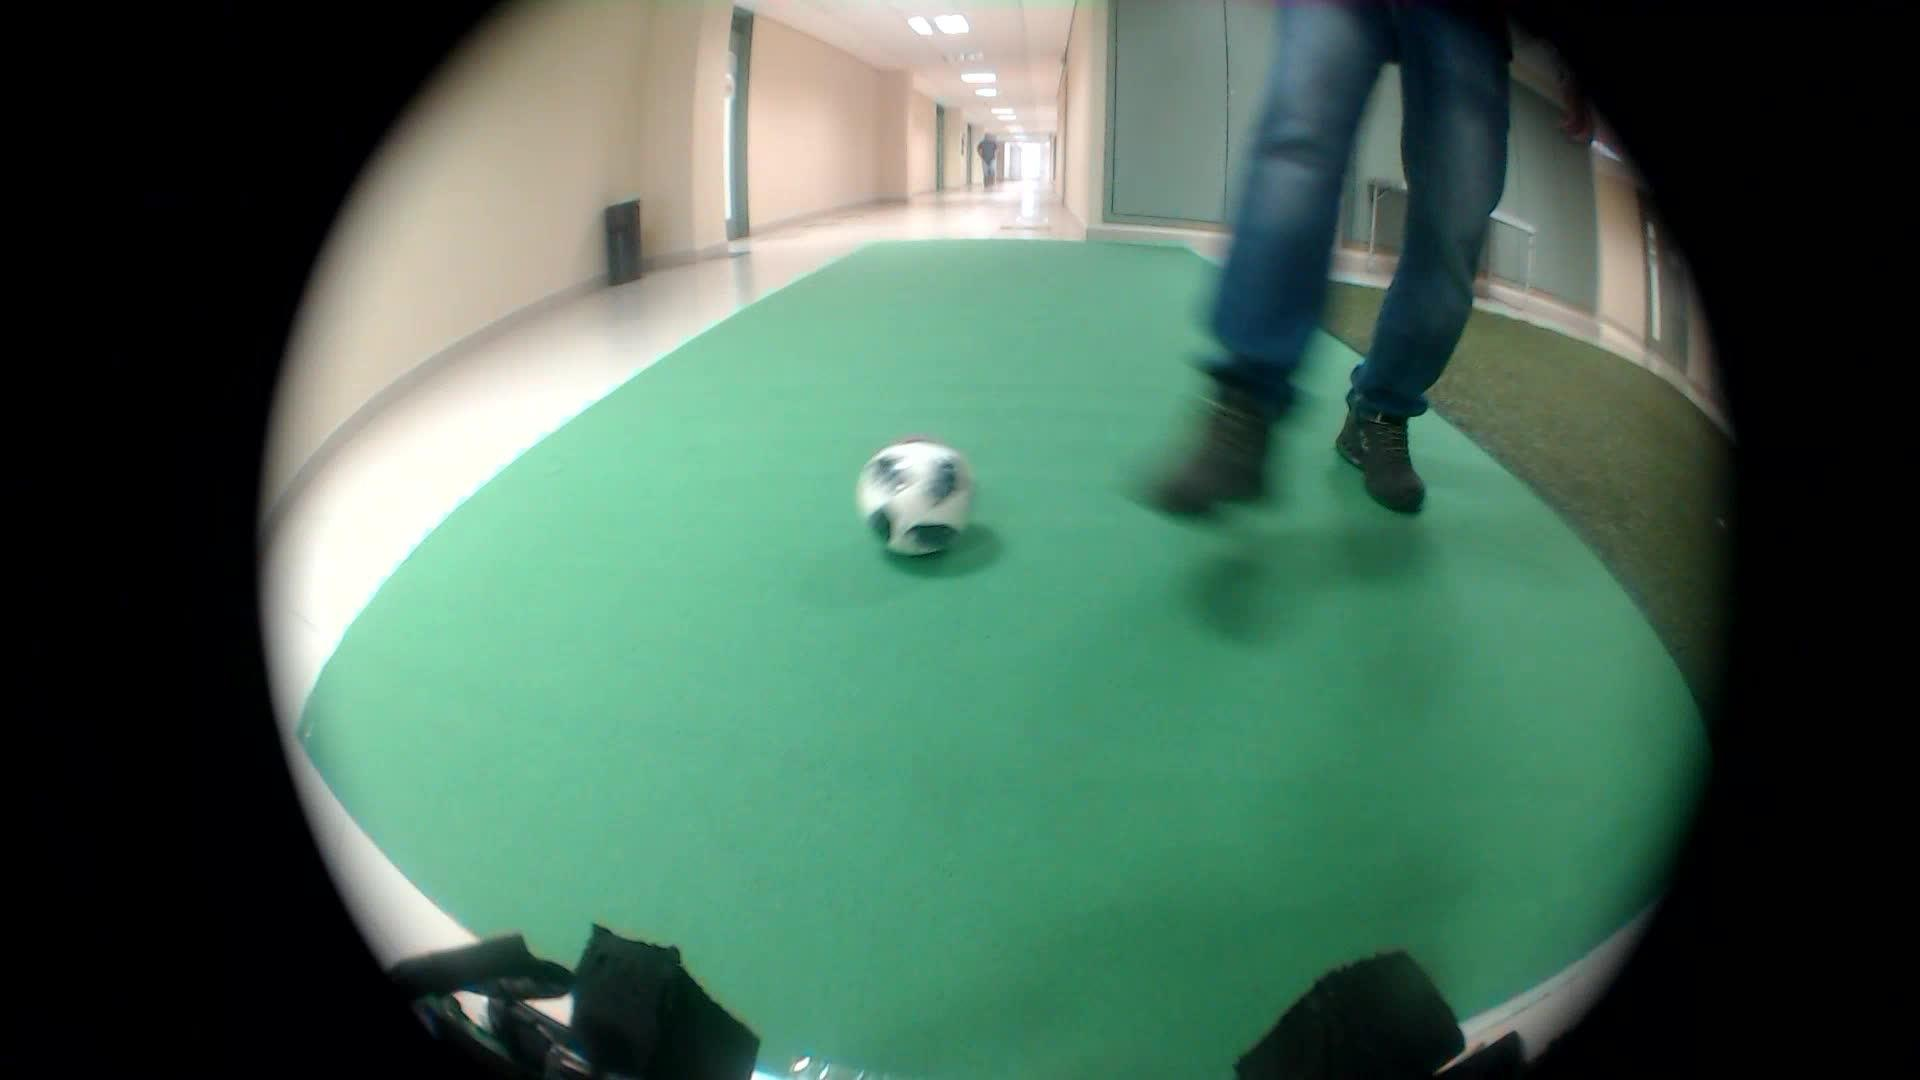ball: (833, 419, 994, 564)
